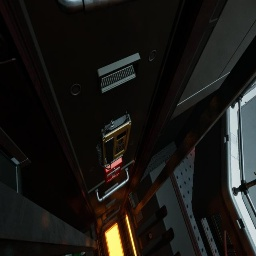0: (62, 252, 87, 256)
EmergencyPhone ,: (96, 111, 131, 170)
FireAlarm ,: (104, 157, 122, 184)
